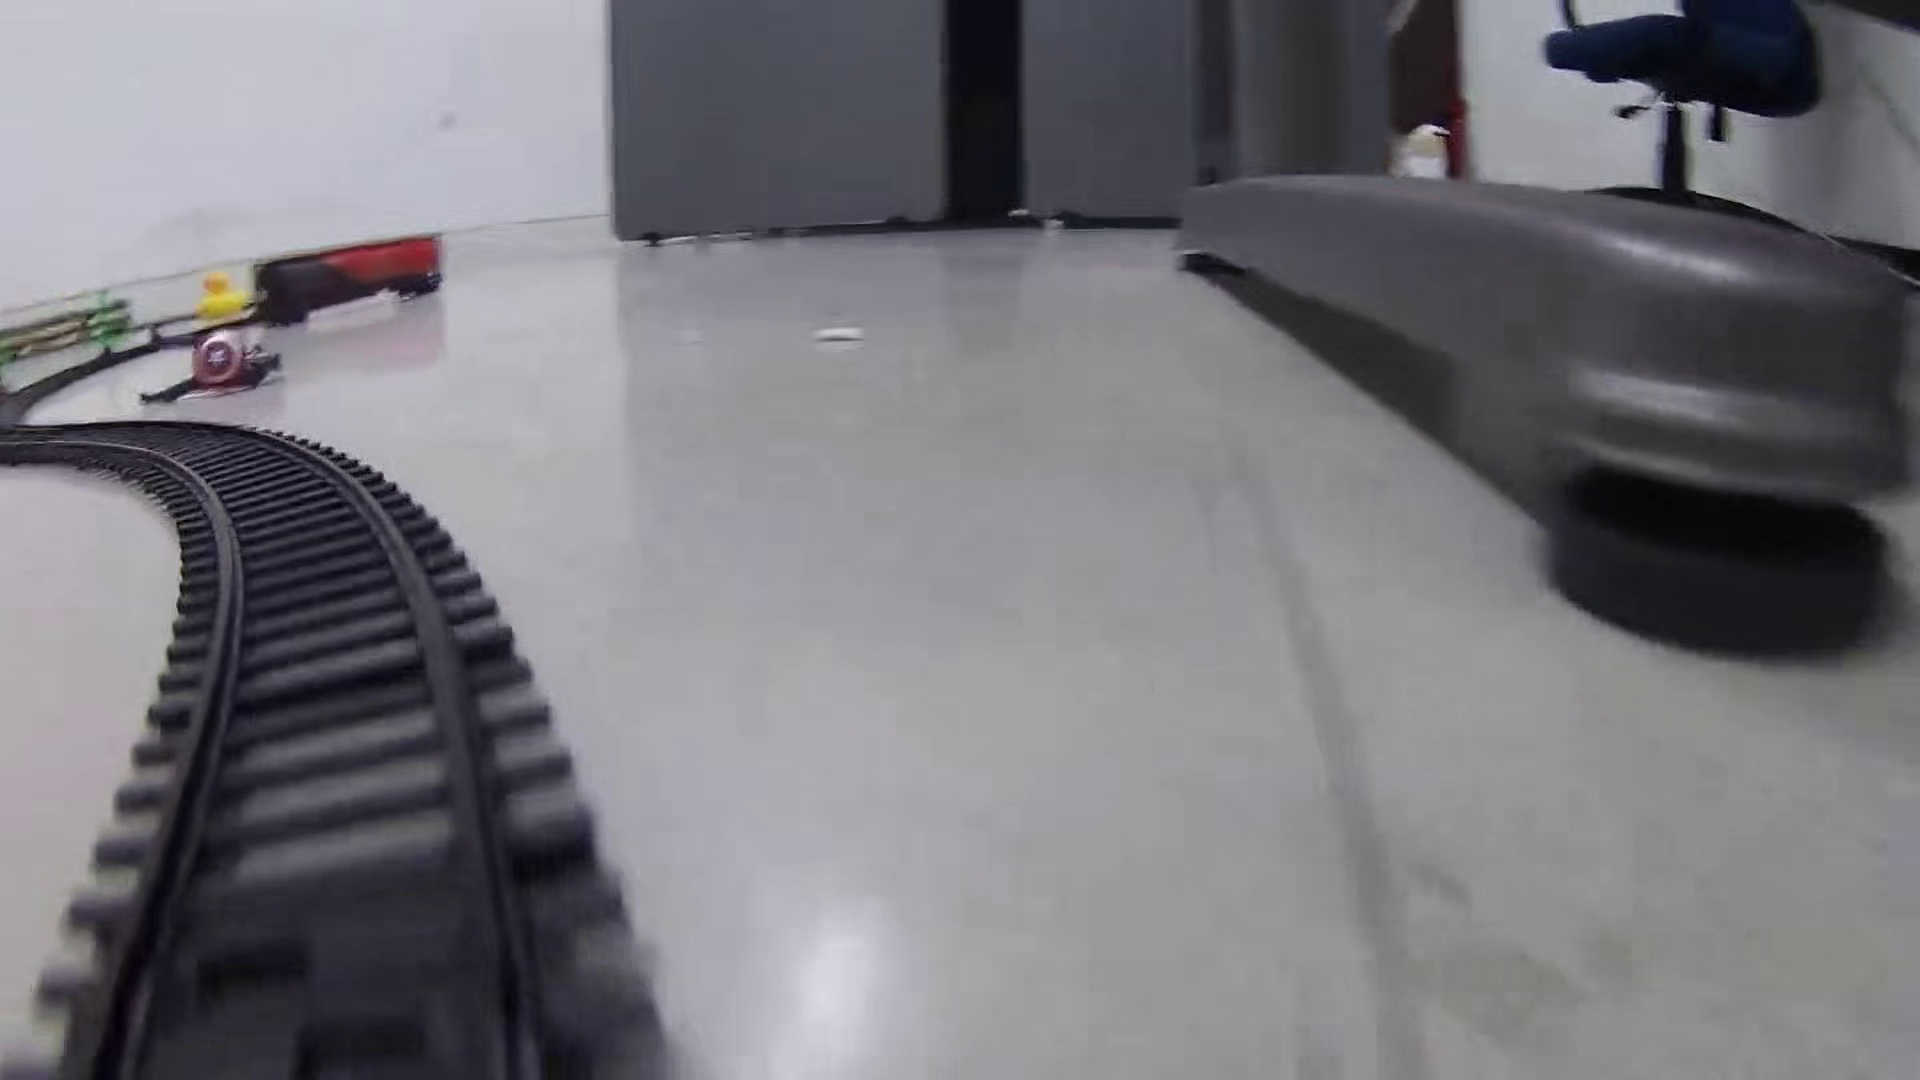people: (133, 319, 286, 410)
